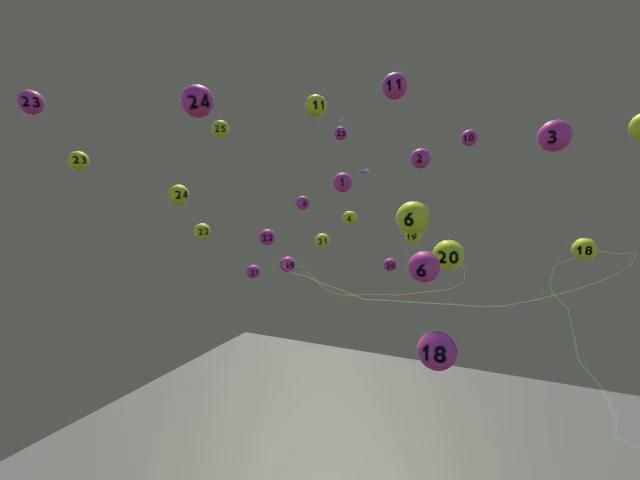ball_01_pink: (333, 171, 352, 191)
ball_02_pink: (410, 147, 430, 168)
ball_03_pink: (537, 119, 573, 152)
ball_04_pink: (295, 194, 310, 210)
ball_04_yellow: (341, 210, 357, 225)
ball_06_pink: (407, 250, 440, 282)
ball_06_yellow: (396, 200, 429, 233)
ball_10_pink: (461, 129, 478, 147)
ball_11_pink: (381, 71, 407, 100)
ball_11_yellow: (304, 93, 326, 116)
ball_18_pink: (416, 330, 457, 370)
ball_18_yellow: (570, 237, 597, 259)
ball_19_pink: (279, 255, 295, 273)
ball_19_yellow: (405, 233, 420, 242)
ball_20_pink: (383, 257, 396, 271)
ball_20_yellow: (432, 238, 463, 269)
ball_21_pink: (245, 264, 260, 279)
ball_21_yellow: (314, 234, 329, 248)
ball_22_pink: (258, 228, 274, 245)
ball_22_yellow: (193, 222, 211, 239)
ball_23_pink: (16, 88, 45, 114)
ball_23_yellow: (67, 149, 88, 168)
ball_24_pink: (180, 83, 213, 117)
ball_24_yellow: (167, 183, 190, 205)
ball_25_pink: (332, 126, 348, 140)
ball_25_yellow: (211, 119, 228, 136)
ball_unknown: (627, 113, 639, 139)
